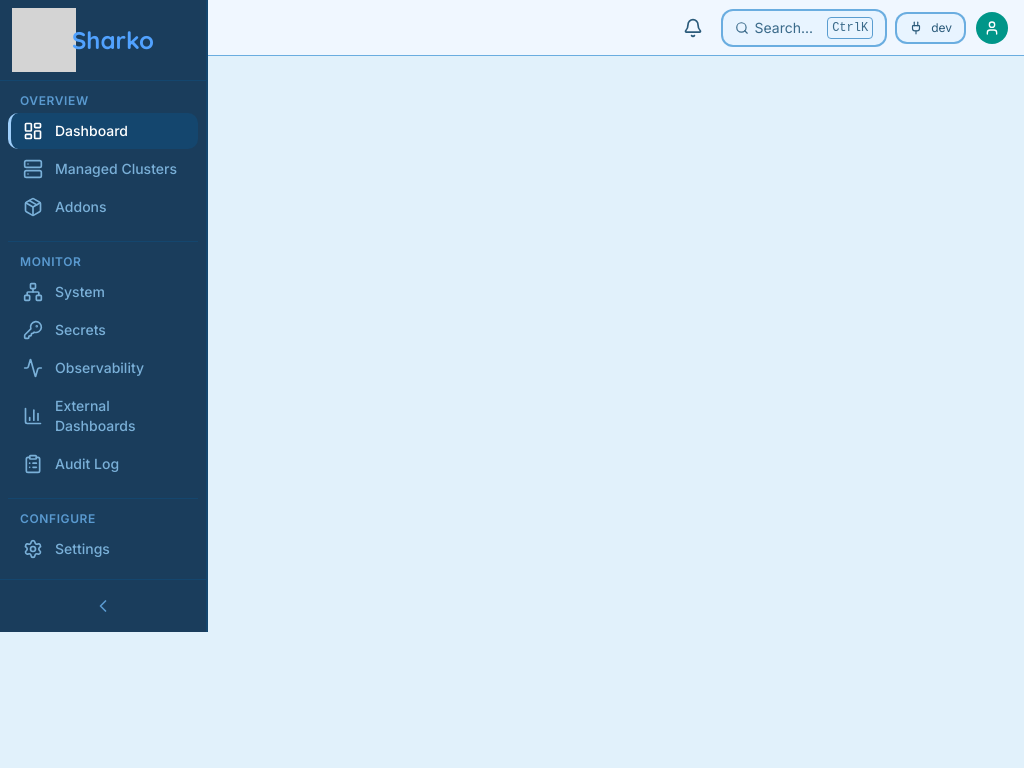
it: Layout › user avatar menu › opens with Account / theme toggle / Log out items
The width and height of the screenshot is (1024, 768).
Click the button named "User menu": (992, 28) [976,12,1008,44]
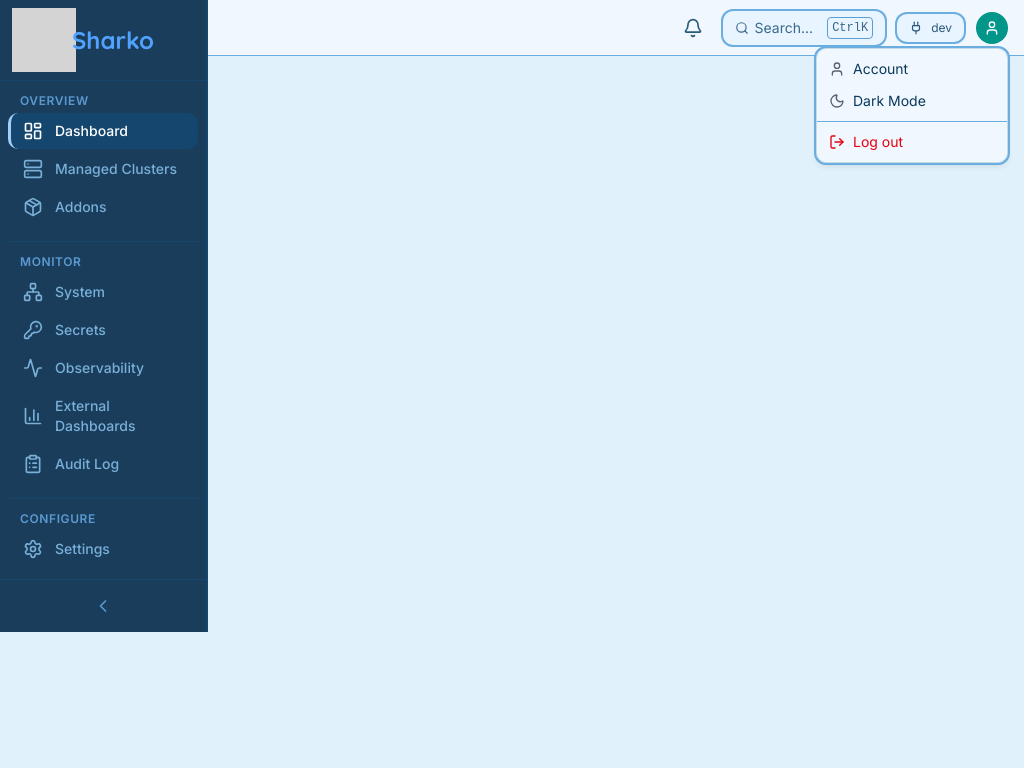
Check: the menu item "Log out" is shown, box [829,133,903,150]
Check: the menu item "Account" is shown, box [829,60,908,77]
Check: the menu item "Dark Mode" is shown, box [829,92,926,109]
